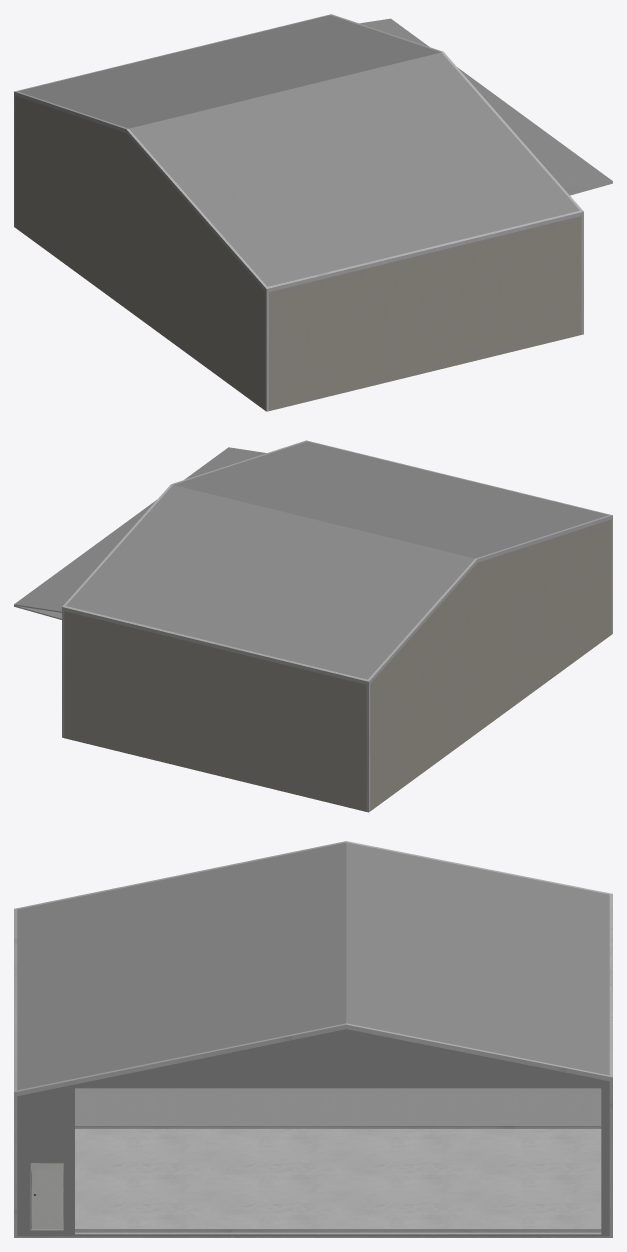
Rendered from gen_open_hangar01-18x13x5-cbj_LOD01.gltf.
3 renders of one model, top to bottom at view 1: azimuth 30°, elevation 25°; view 2: azimuth 150°, elevation 25°; view 3: azimuth 270°, elevation 25°, orthographic. The views are drawn at different scales.
Parts seen in each view (by area): view 1: Cube.014; view 2: Cube.014; view 3: Cube.014.
Part boxes in pixels (x1,y1,x2,y2): Cube.014: (14, 14, 612, 411); Cube.014: (14, 440, 612, 812); Cube.014: (14, 841, 612, 1237).
Size of the model in its own units: 15.47 by 7.15 by 18.2.
